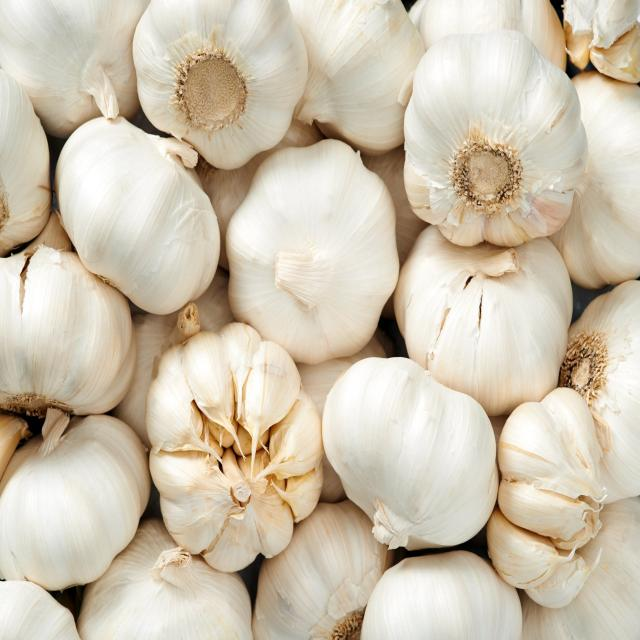garlic: (146, 324, 321, 571), (404, 30, 587, 246), (226, 139, 399, 363), (394, 225, 572, 415), (322, 358, 498, 549), (55, 117, 219, 313), (132, 0, 308, 169), (0, 417, 150, 591), (488, 388, 606, 608), (0, 246, 135, 417), (289, 0, 425, 154), (78, 520, 252, 640), (252, 500, 394, 640), (559, 281, 640, 503)
